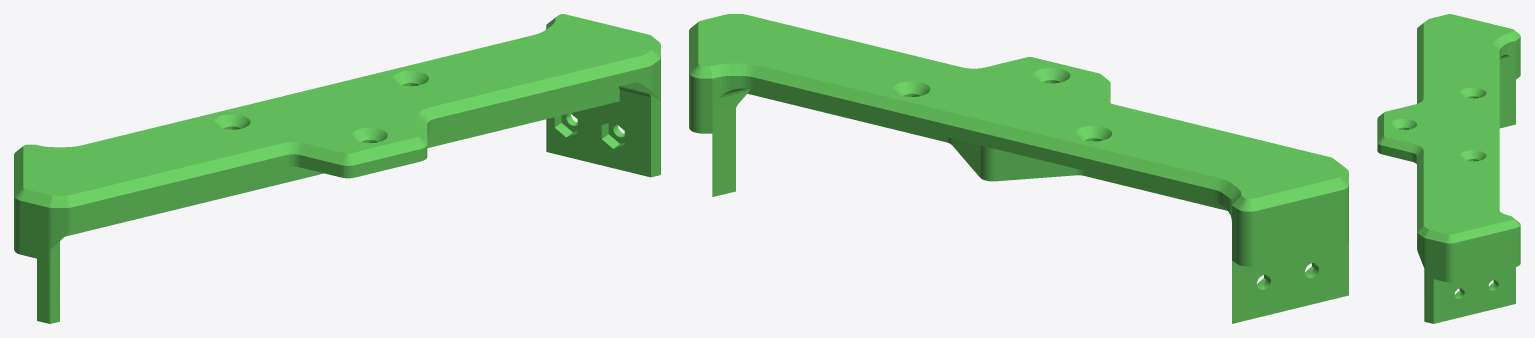
Rendered from nano_chassis_bridge.dae.
3 views of the same model, side by side, from view 1: azimuth 30°, elevation 25°; view 2: azimuth 150°, elevation 25°; view 3: azimuth 270°, elevation 25° (orthographic). The views are drawn at different scales.
Visible parts, largest first — view 1: Nano_Chassis_-_Bridge; view 2: Nano_Chassis_-_Bridge; view 3: Nano_Chassis_-_Bridge.
Boxes of the visible parts, x1,y1,x2,y2 form: Nano_Chassis_-_Bridge: (14, 14, 660, 323); Nano_Chassis_-_Bridge: (689, 14, 1348, 323); Nano_Chassis_-_Bridge: (1377, 14, 1520, 323).
Size of the model in its own units: 1.62 by 0.4335 by 0.3.
